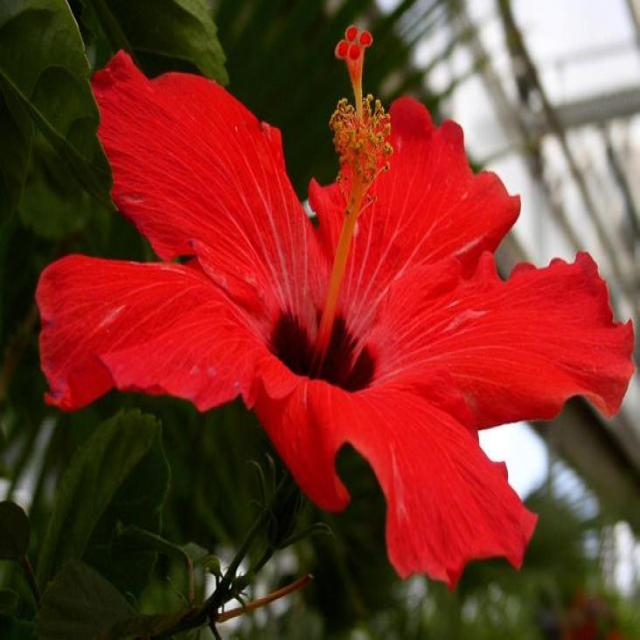hibiscus: (19, 4, 640, 633)
